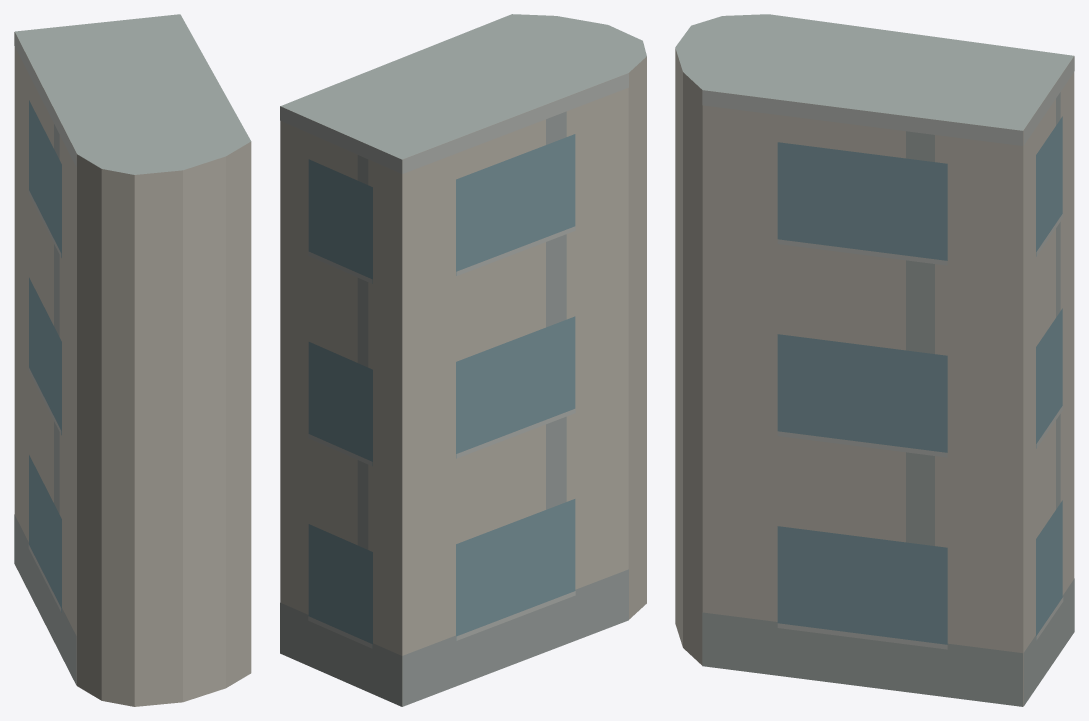
The model's file is survey-upis-32733579.glb.
3 renders of one model, left to right at view 1: azimuth 30°, elevation 25°; view 2: azimuth 150°, elevation 25°; view 3: azimuth 270°, elevation 25°, orthographic. The views are drawn at different scales.
Visible parts, largest first — view 1: survey-upis-32733579.tmp; view 2: survey-upis-32733579.tmp; view 3: survey-upis-32733579.tmp.
Part boxes in pixels (left/top/right/bottom): survey-upis-32733579.tmp: left=14, top=14, right=251, bottom=706; survey-upis-32733579.tmp: left=280, top=14, right=646, bottom=706; survey-upis-32733579.tmp: left=675, top=14, right=1074, bottom=706.
Size of the model in its own units: 3.99 by 9.15 by 5.75.
